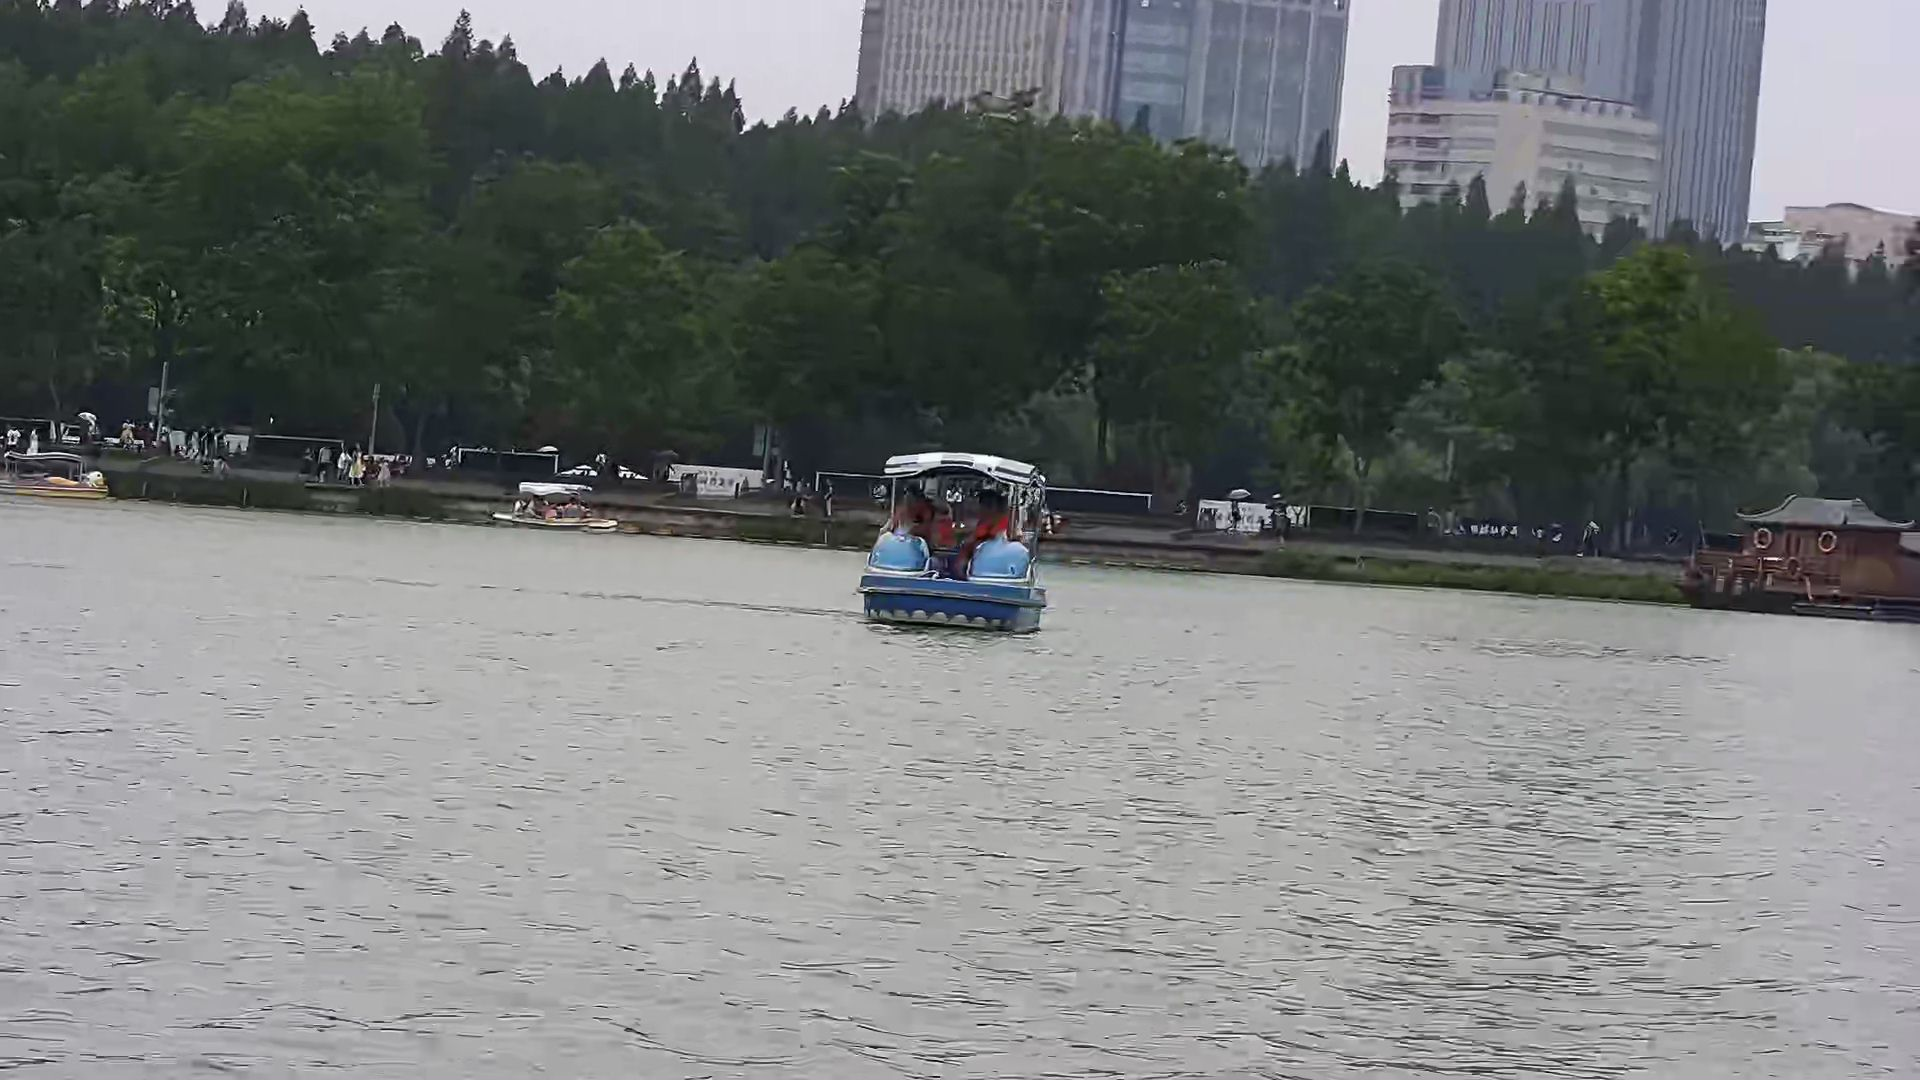boat: (853, 444, 1046, 637), (487, 475, 620, 541), (4, 443, 111, 502)
